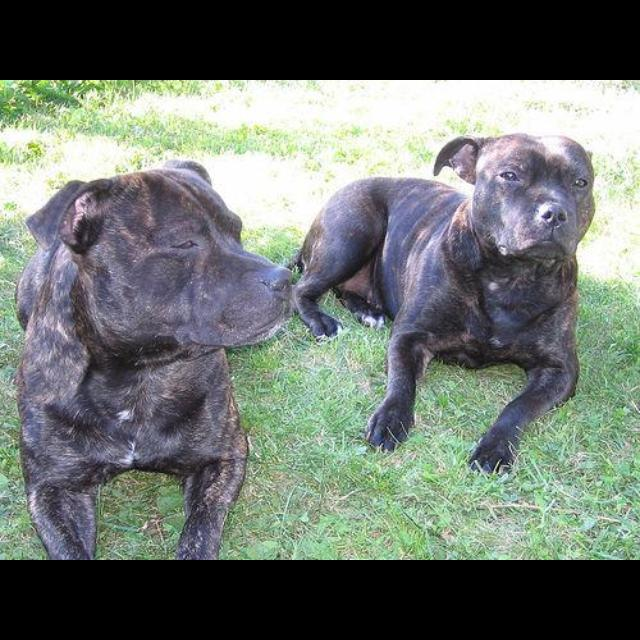staffford: (13, 159, 295, 559), (288, 133, 596, 478)
